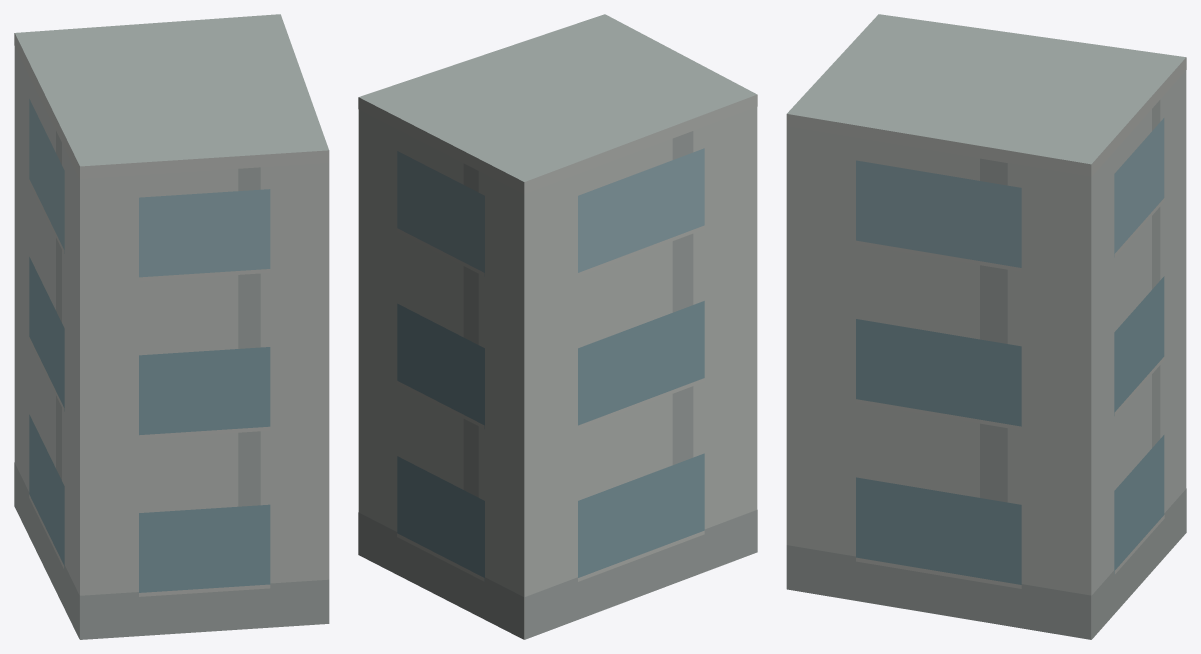
File: survey-upis-33042354.glb
The picture shows the model from 3 angles, left to right: view 1: azimuth 30°, elevation 25°; view 2: azimuth 150°, elevation 25°; view 3: azimuth 270°, elevation 25°; orthographic projection. The views are drawn at different scales.
Parts seen in each view (by area): view 1: survey-upis-33042354.tmp; view 2: survey-upis-33042354.tmp; view 3: survey-upis-33042354.tmp.
Boxes of the visible parts, bbox=[...] form: survey-upis-33042354.tmp: bbox=[14, 14, 329, 639]; survey-upis-33042354.tmp: bbox=[358, 14, 757, 639]; survey-upis-33042354.tmp: bbox=[786, 14, 1186, 639].
Size of the model in its own units: 6.21 by 9.15 by 6.98.
